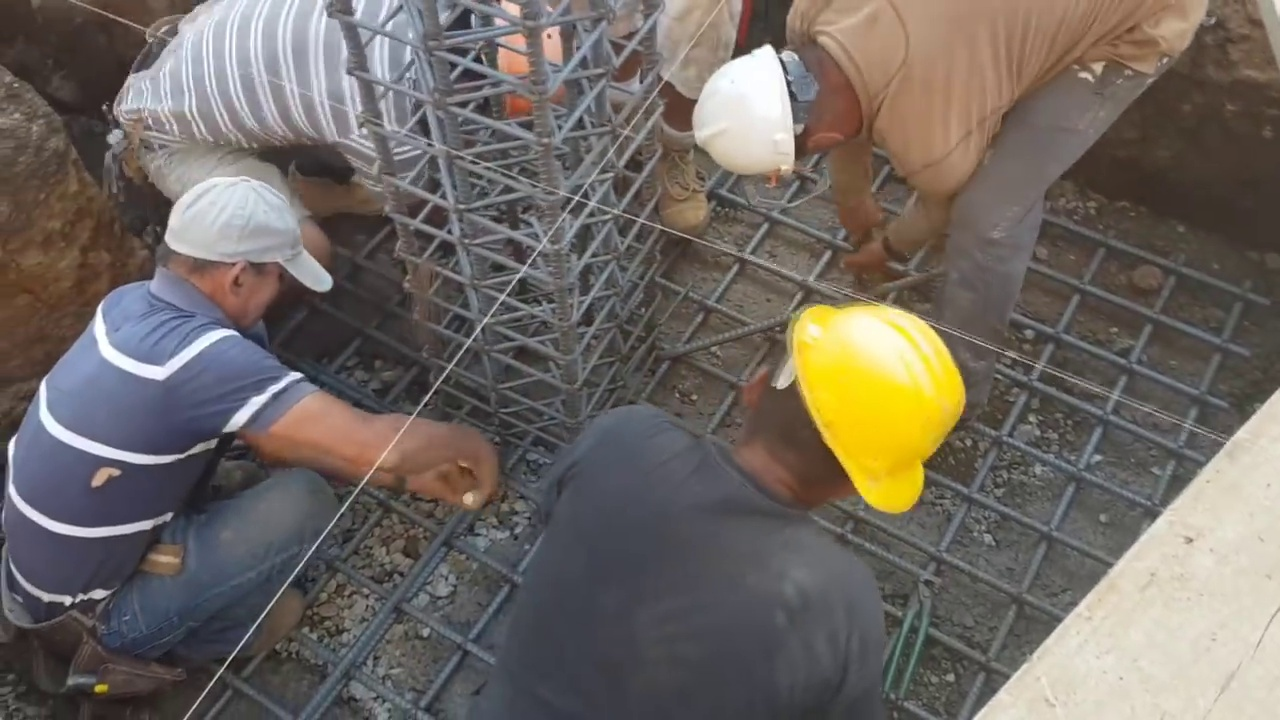helmet: (790, 302, 969, 512), (693, 42, 818, 185), (490, 0, 566, 120)
helmet-off: (147, 173, 329, 331)
helmet-on: (692, 311, 969, 520), (696, 28, 870, 183), (421, 0, 567, 128)
person: (0, 182, 505, 720), (686, 0, 1278, 386), (470, 308, 964, 719), (108, 0, 579, 260), (564, 0, 691, 247)
